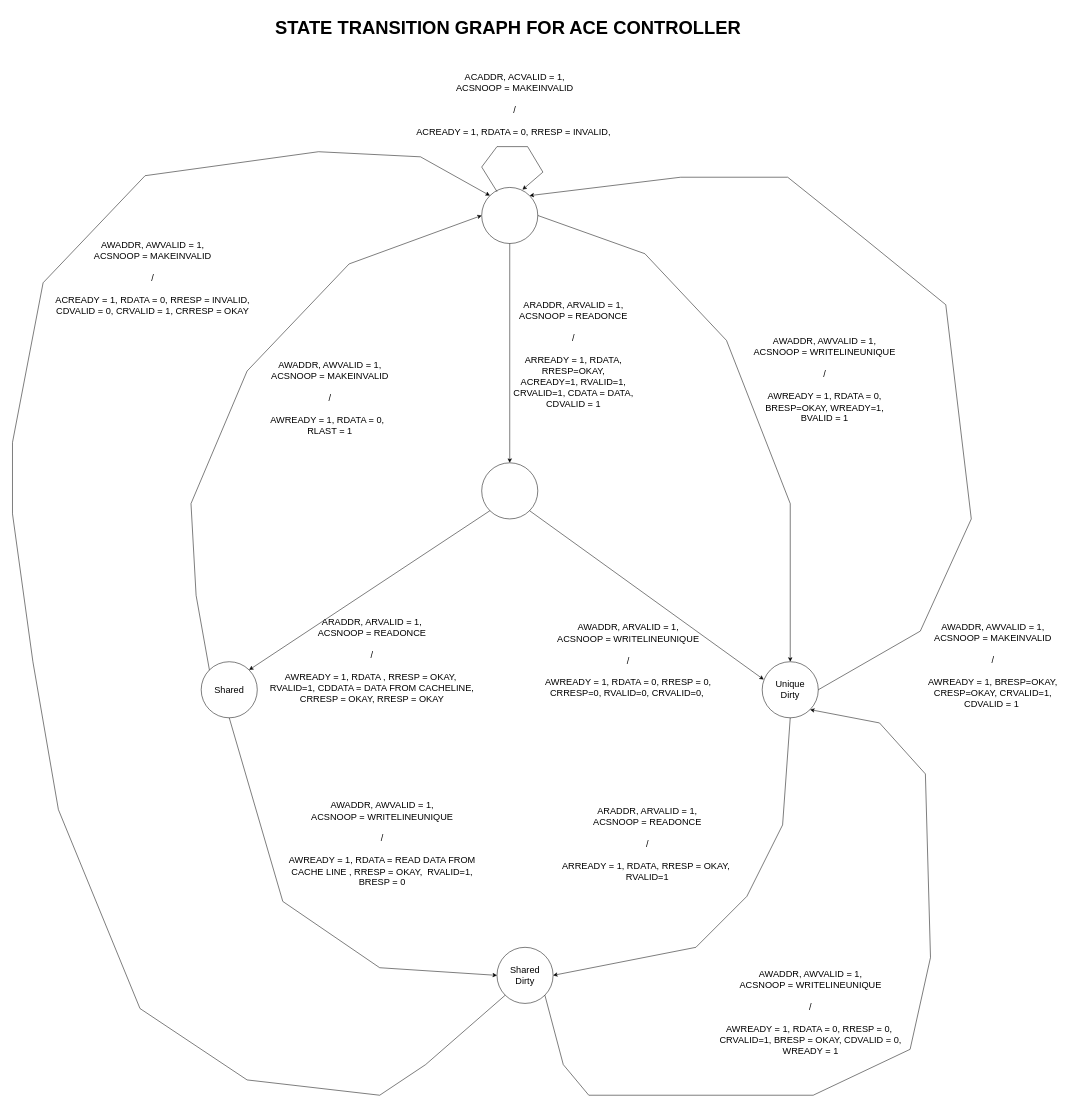
Image size: 1075x1108. Some labels were removed from this diagram. The shapes that lost their labels are listed below. From the top down, each one's centre as x and y in pixels, then its label:
the point at 509,215: Invalid
the point at 509,490: Unique Clean
